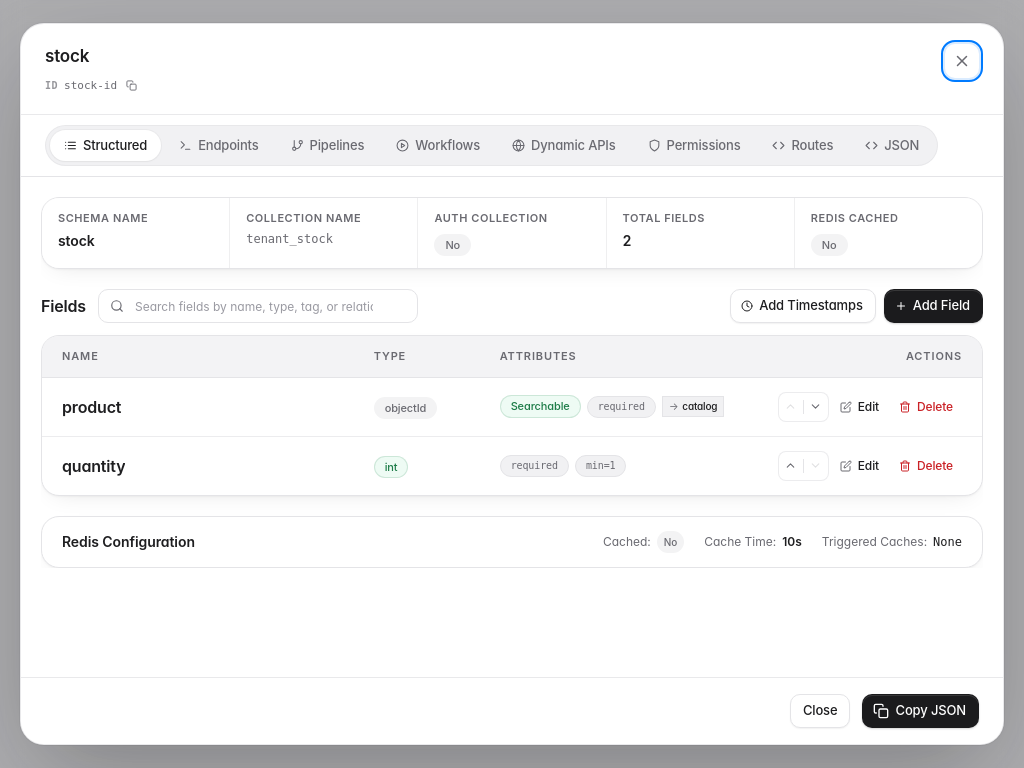
Test: ContainerDetailsModal › filters fields safely and keeps the parent open after editing
In the search field labelled "Search fields": (258, 306) [98,289,418,323], type "quantity"
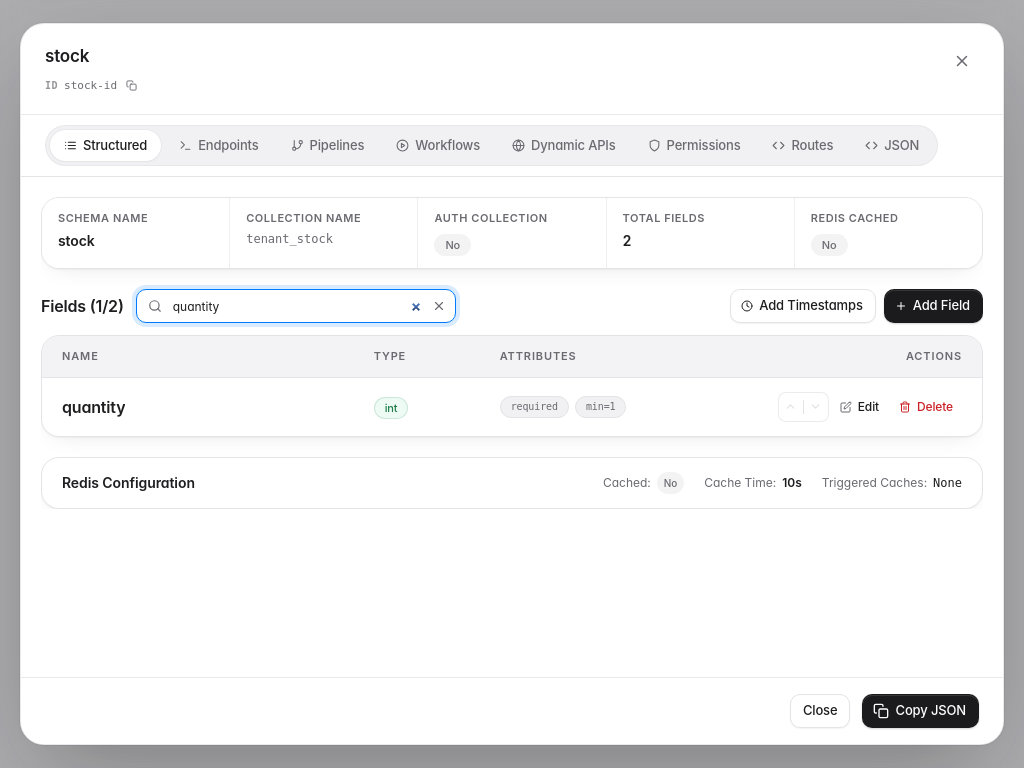
Check: the text "quantity" is shown, box [62,394,125,418]
Check: the heading "Fields (1/2)" is shown, box [41,294,124,318]
Check: the text "product" is gone
Click the button "Edit": (860, 406) [833,390,888,424]
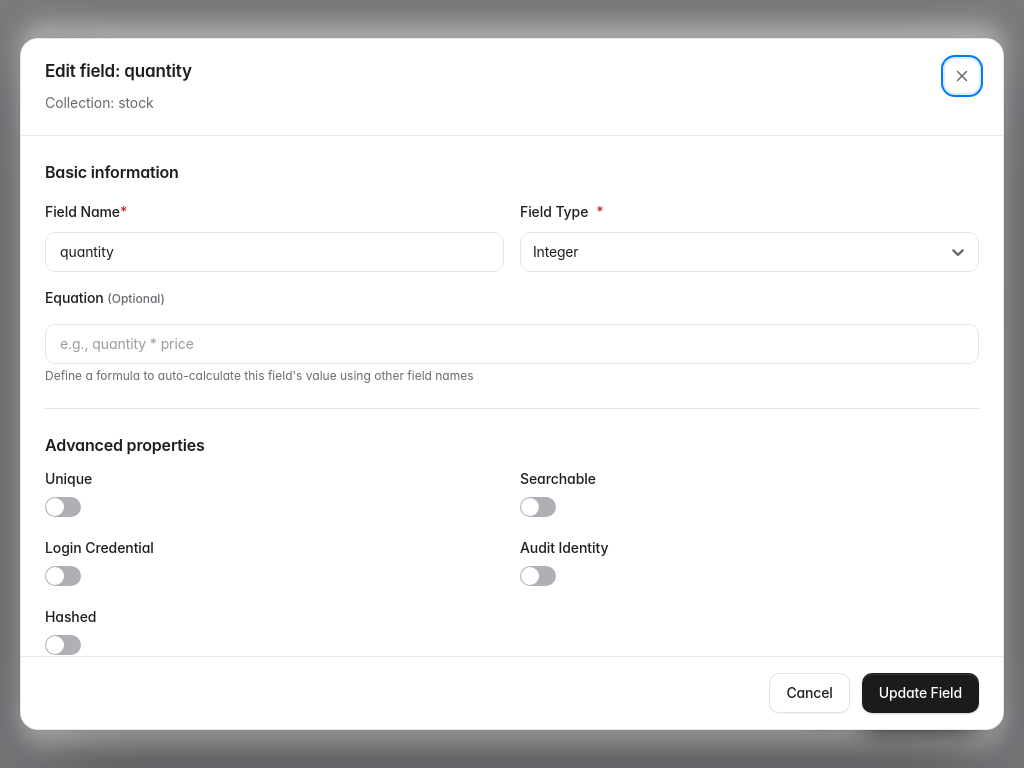
Check: the dialog "Edit field: quantity" is shown
Click the button "Cancel": (810, 693) [770,673,850,713]
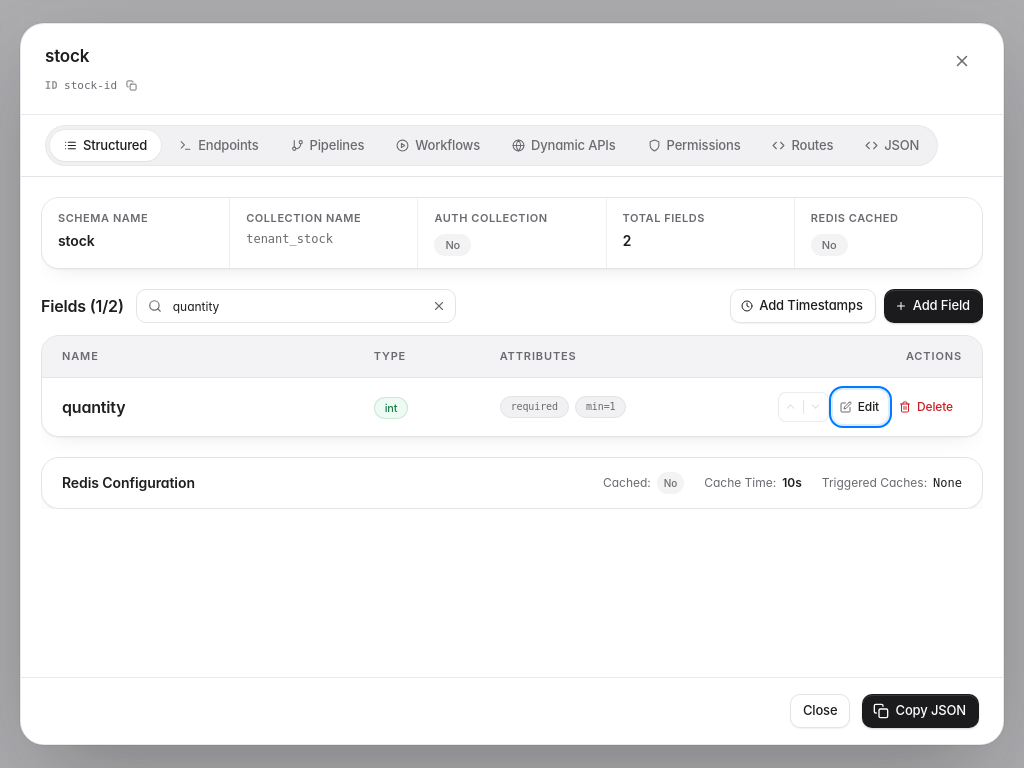
Clear the search field named "Search fields": (296, 306) [136,289,456,323]
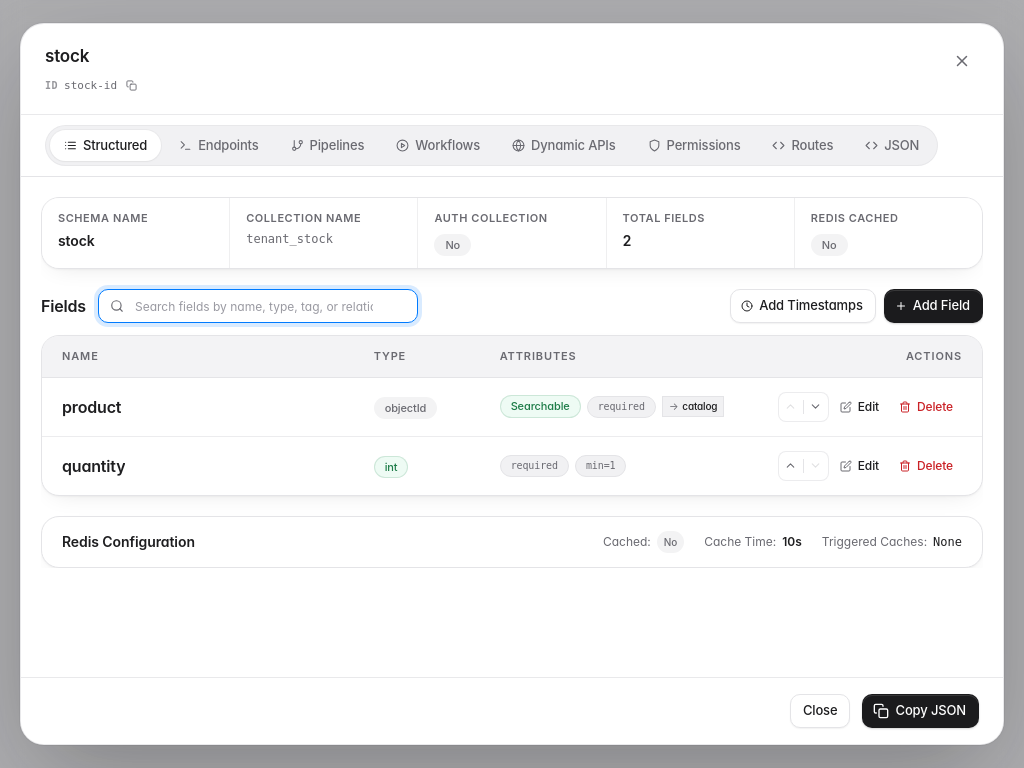
In the search field labelled "Search fields": (258, 306) [98,289,418,323], type "missing"
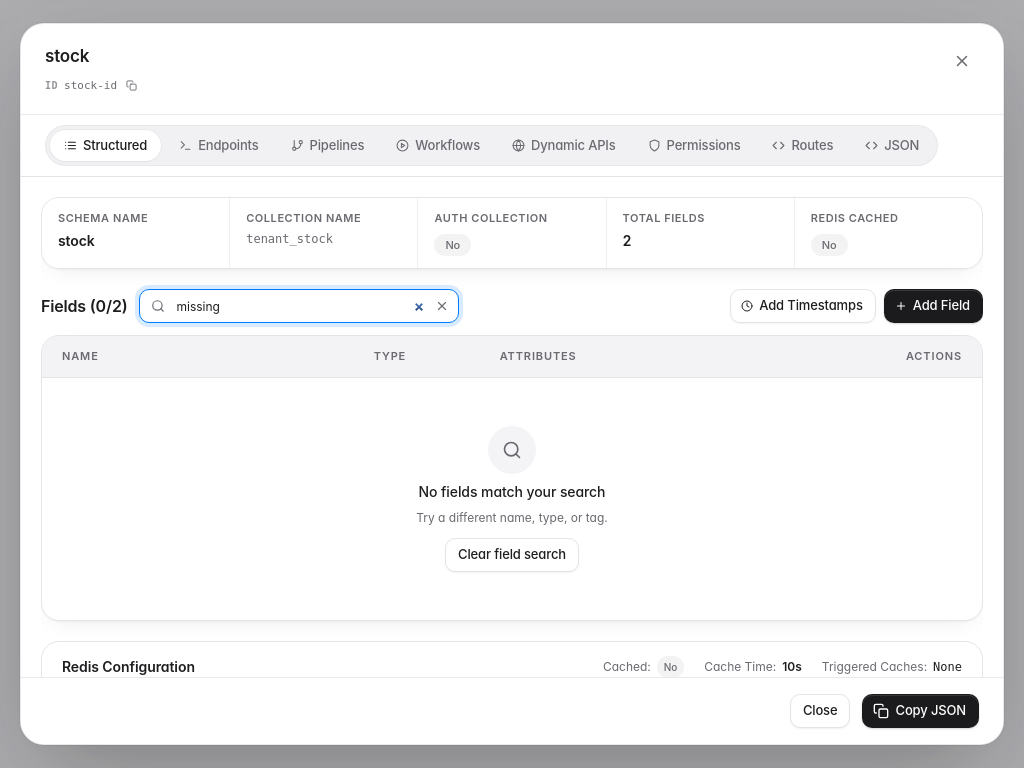
Check: the button "Add Field" is shown, box [884,289,983,323]
Check: the text "No fields match your search" is shown, box [418,482,605,502]
Click the button "Clear field search": (512, 554) [445,538,579,572]
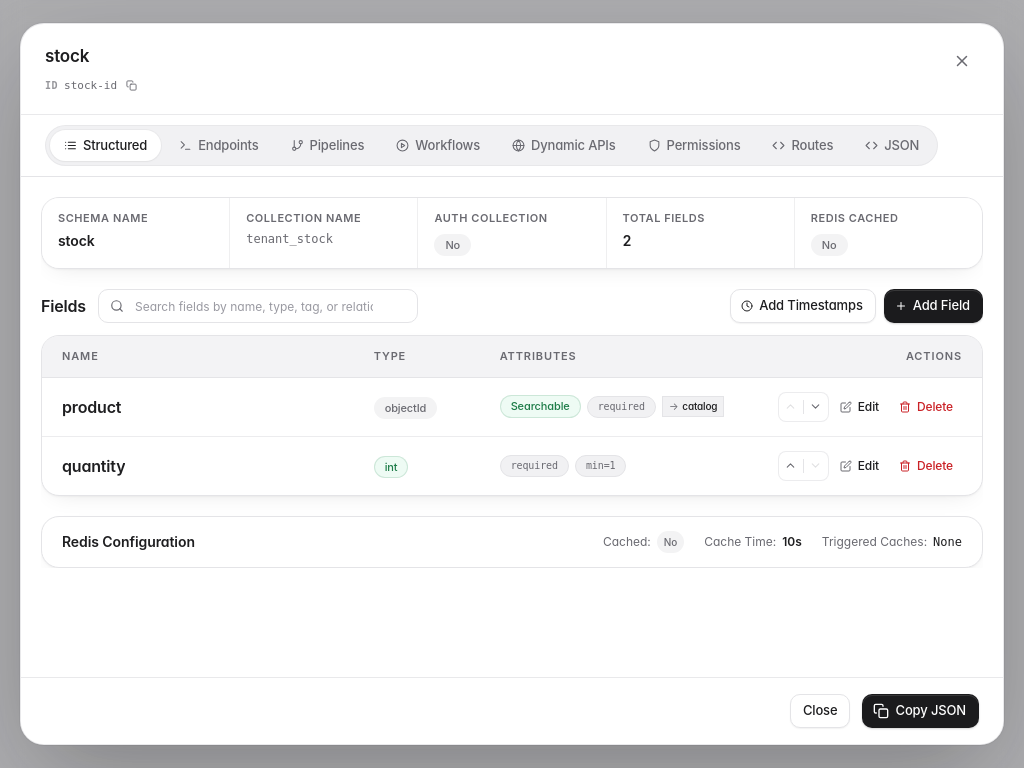
Check: the text "product" is shown, box [62,394,121,418]
